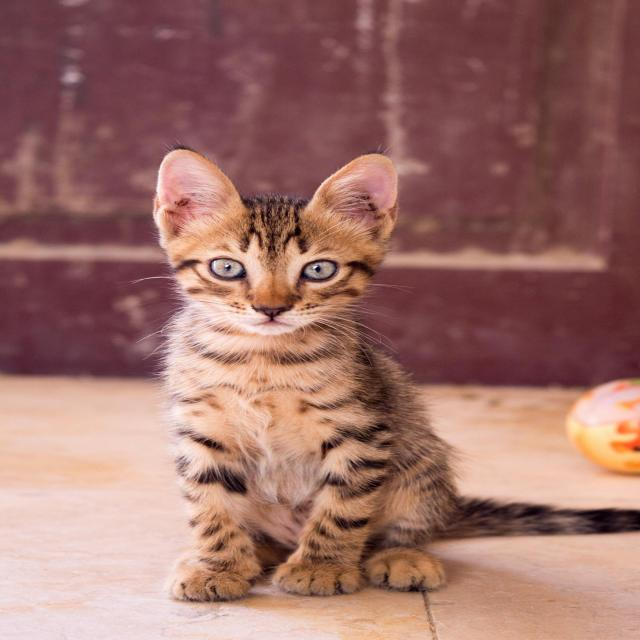Cat: (127, 142, 638, 602)
